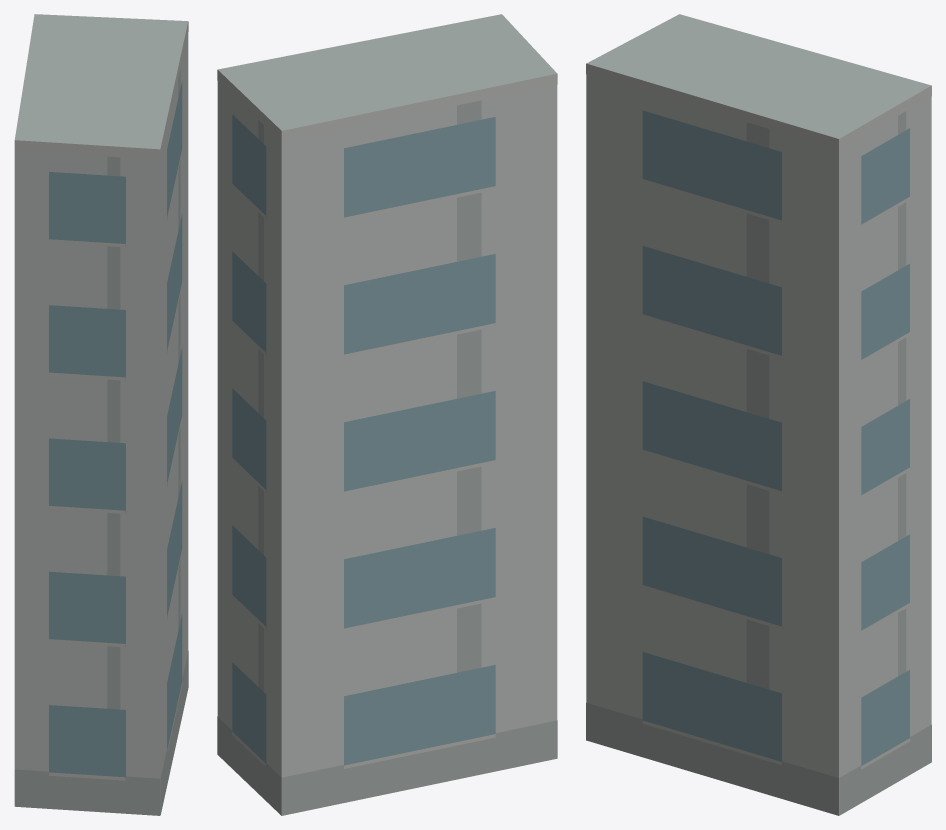
Rendered from survey-upis-32739230.glb.
3 views of the same model, side by side, from view 1: azimuth 30°, elevation 25°; view 2: azimuth 150°, elevation 25°; view 3: azimuth 270°, elevation 25° (orthographic). The views are drawn at different scales.
Visible parts, largest first — view 1: survey-upis-32739230.tmp; view 2: survey-upis-32739230.tmp; view 3: survey-upis-32739230.tmp.
Boxes of the visible parts, left/top/right/bottom form: survey-upis-32739230.tmp: left=14, top=14, right=188, bottom=815; survey-upis-32739230.tmp: left=217, top=14, right=557, bottom=815; survey-upis-32739230.tmp: left=586, top=14, right=931, bottom=815.
Size of the model in its own units: 6.05 by 15.25 by 7.06.
